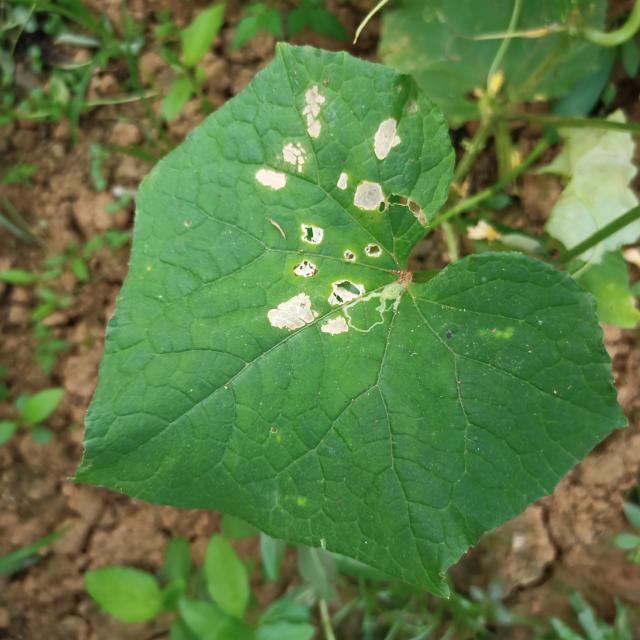disease_cucumber: (268, 223, 362, 336), (257, 84, 324, 189), (338, 118, 401, 211)
